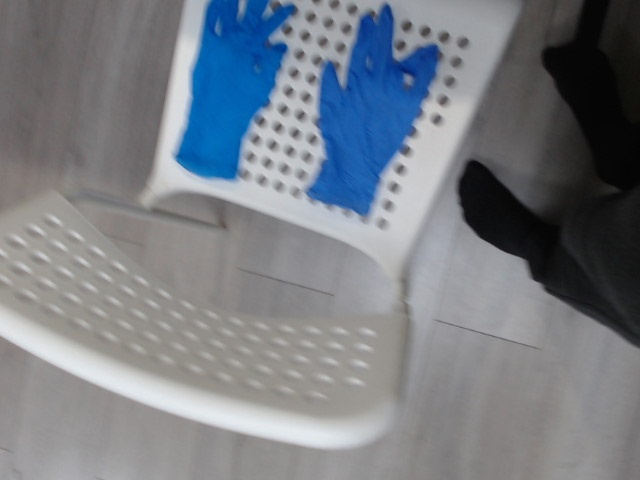medical_glove: (307, 5, 437, 213), (173, 1, 295, 178)
